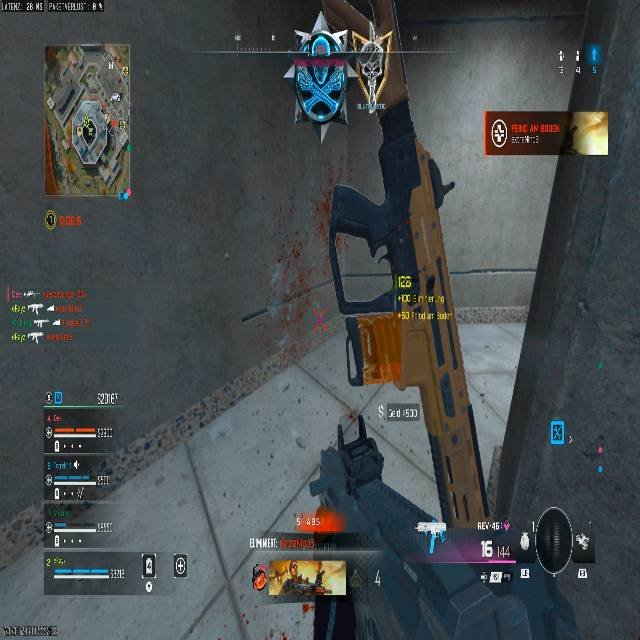head: (315, 0, 378, 38)
player: (287, 0, 457, 317)
